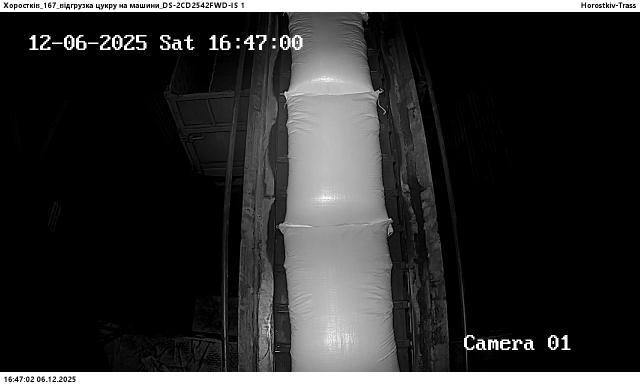bag: (278, 220, 400, 372), (284, 90, 391, 229), (286, 12, 374, 98)
